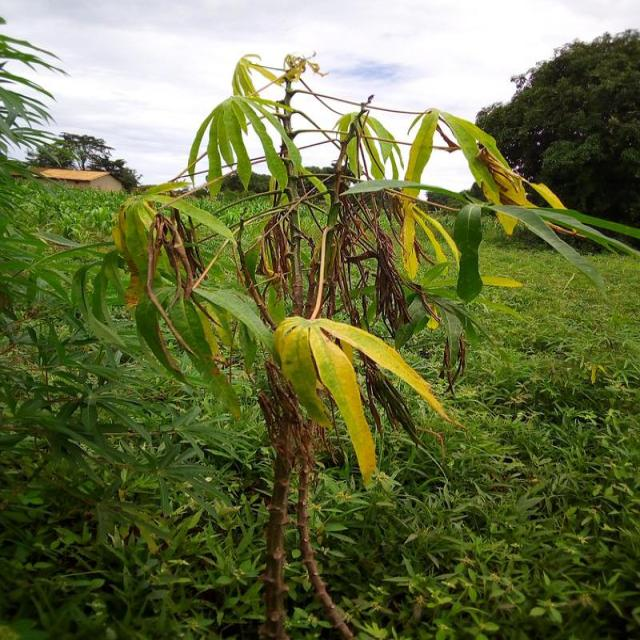cassava leaf: (101, 51, 636, 488), (271, 312, 456, 488)
